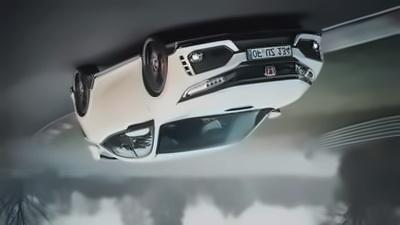Car hood: (164, 78, 309, 124)
Front bumper: (165, 28, 325, 96)
Headlight - -L-: (176, 71, 235, 103)
Passenger-s door - -F-L-: (112, 49, 162, 169)
Passenger-s door - -R-L-: (88, 50, 138, 165)
Side bumper - -L-: (92, 50, 141, 111)
Side mirror - -L-: (123, 121, 150, 137)
